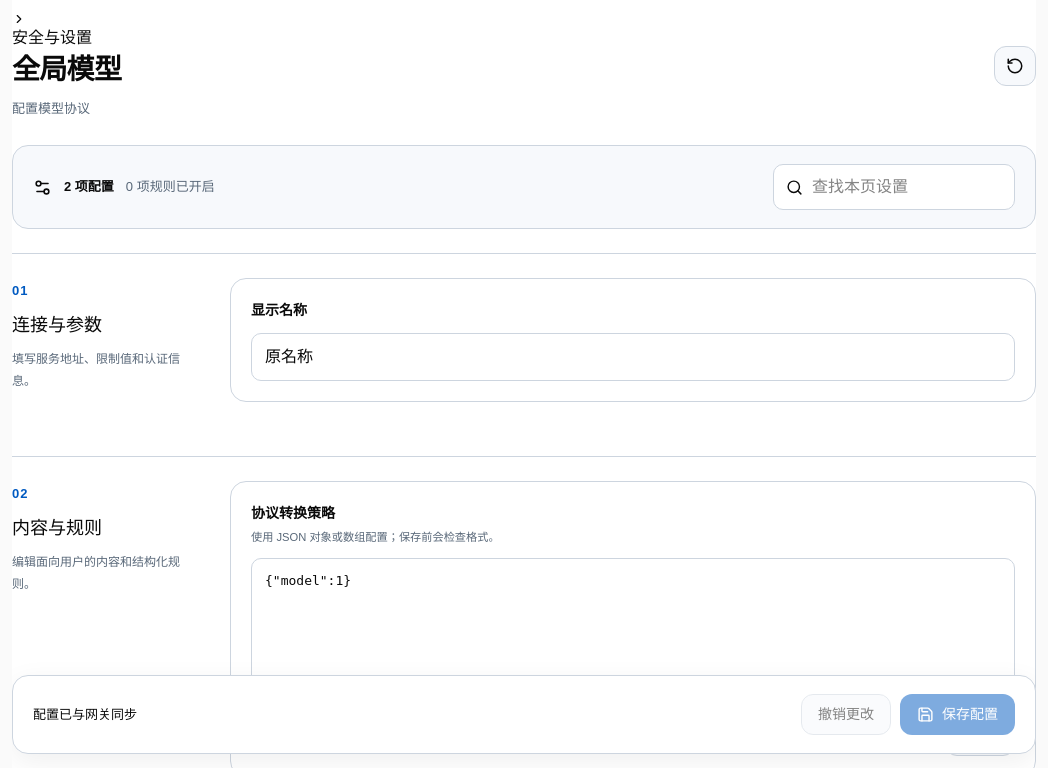
further-api settings workspace › searches localized field labels without losing unsaved values
Replace the text in the field labelled "显示名称" with "待保存名称". click: (633, 357)
box: x1=251 y1=333 x2=1015 y2=381
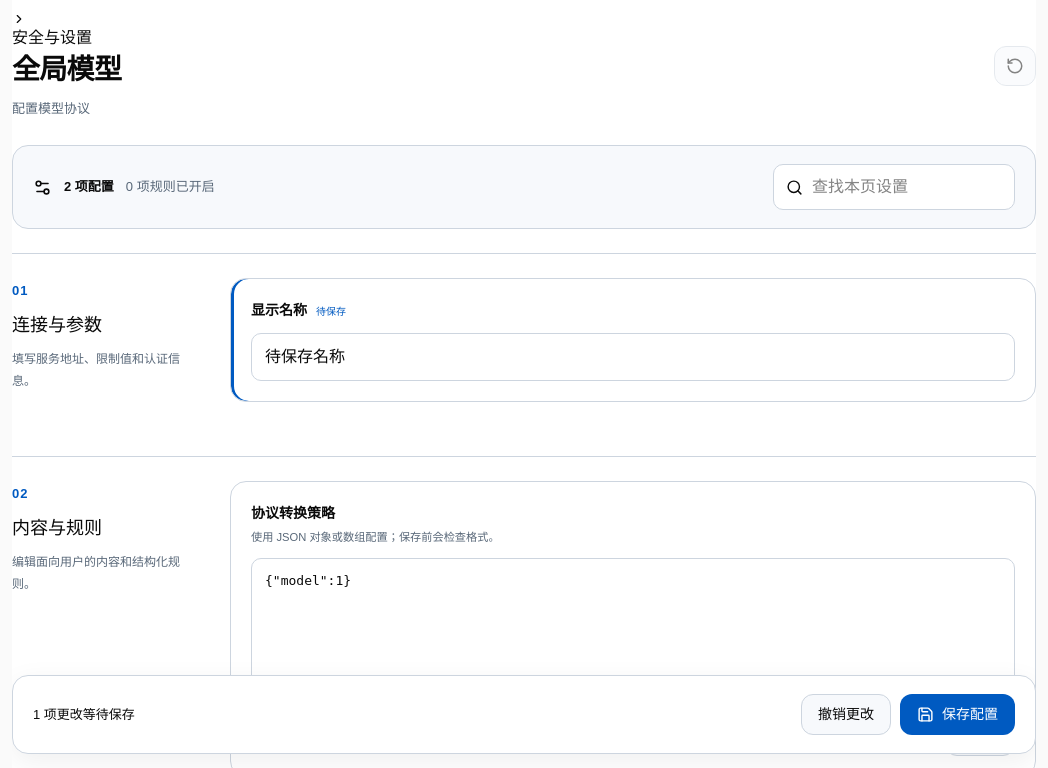
Type "模型" into the search field. click: (907, 187)
box: x1=812 y1=175 x2=1002 y2=199
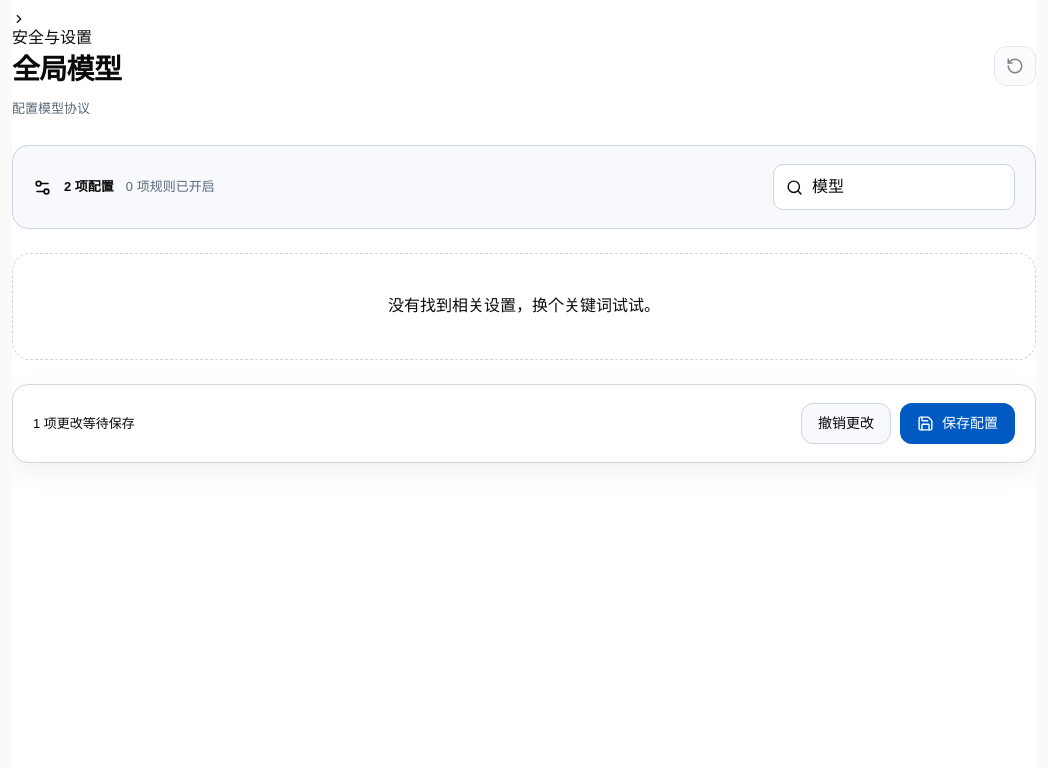
Now the message reads "1 项更改等待保存", box x1=33 y1=416 x2=135 y2=431
Now the label labelled "显示名称" is gone
Clear the search field. click: (907, 187)
box: x1=812 y1=175 x2=1002 y2=199
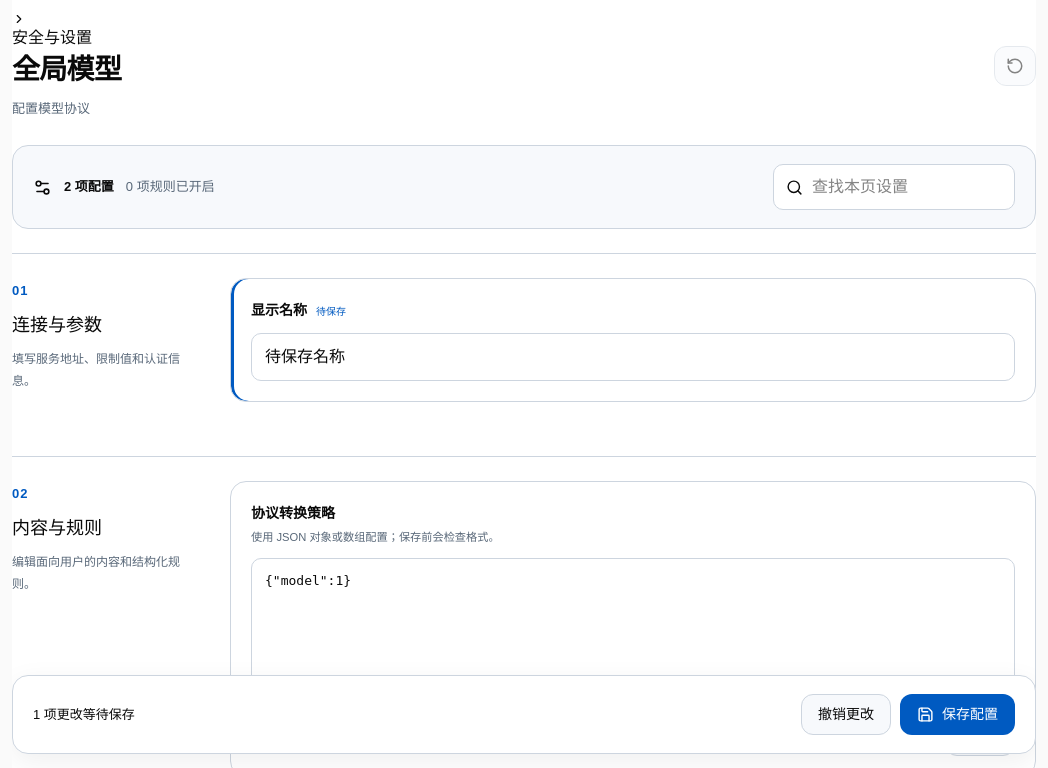
Now the field labelled "显示名称" holds "待保存名称", box x1=251 y1=333 x2=1015 y2=381
Click the button "撤销更改". click: (846, 714)
box: x1=801 y1=694 x2=891 y2=735
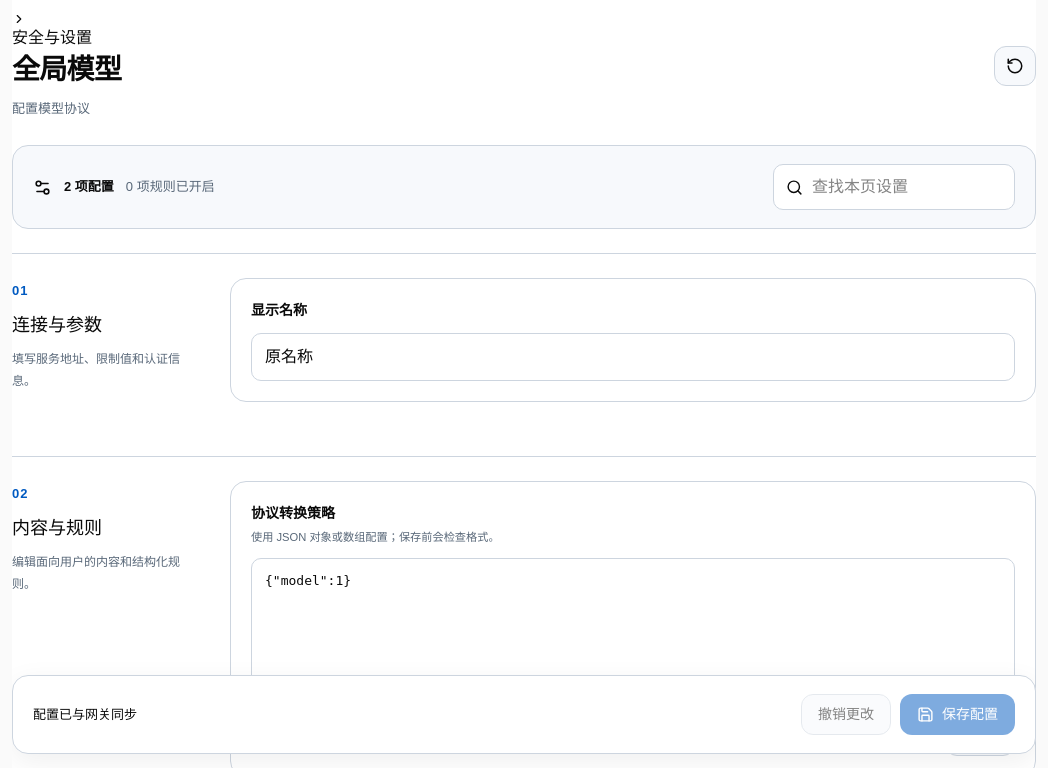
Now the field labelled "显示名称" holds "原名称", box x1=251 y1=333 x2=1015 y2=381
